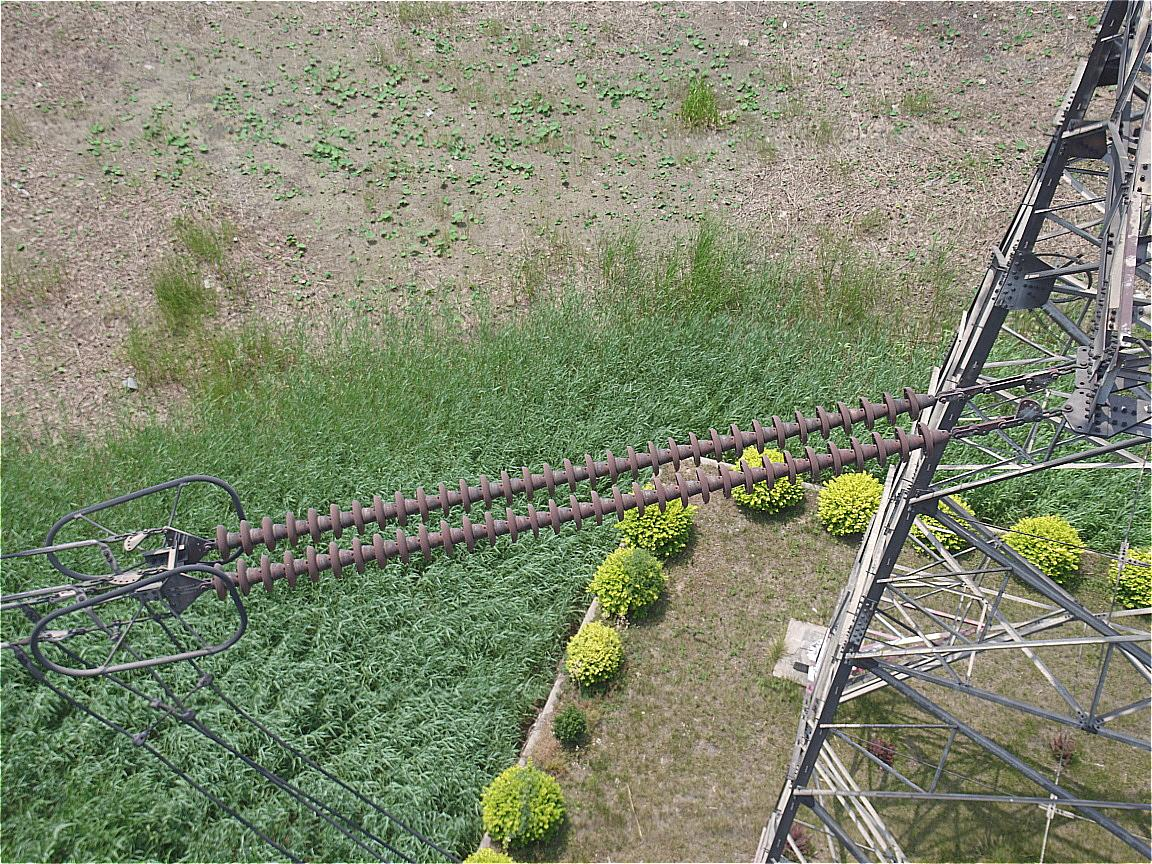insultor1: (208, 374, 991, 632)
